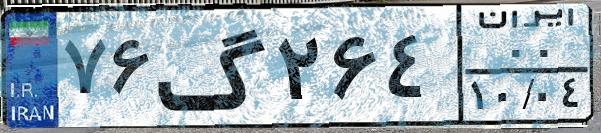0: (537, 27, 568, 80), (508, 27, 537, 80), (495, 70, 520, 125), (535, 70, 560, 125)
1: (470, 70, 495, 125)
2: (270, 28, 330, 110)
4: (385, 28, 445, 110), (560, 70, 590, 125)
6: (330, 28, 385, 110), (110, 28, 156, 98)
7: (57, 26, 110, 100)
گ: (156, 12, 270, 120)
